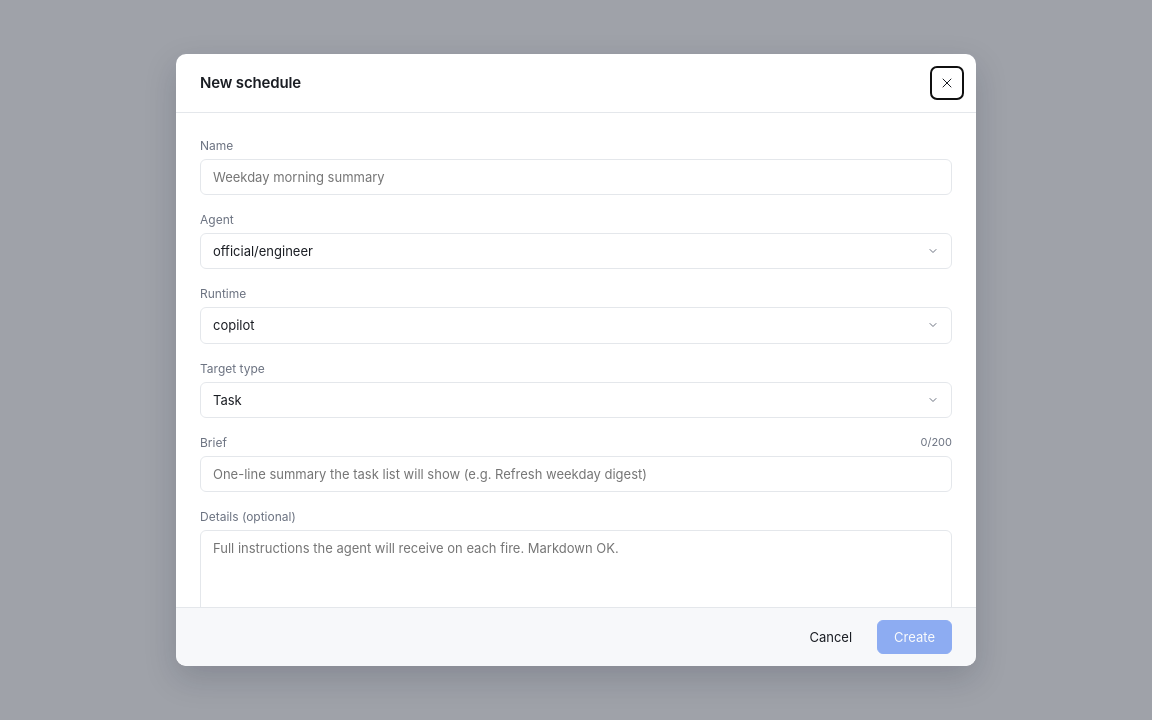
CreateScheduleModal › switching to Workflow reseeds the coordinator agent, hides Runtime, and relabels Agent
This screenshot has width=1152, height=720.
Step 1. Select "Workflow" in the dropdown with test id "create-schedule-target-kind" → (576, 400), box [200,382,952,418]
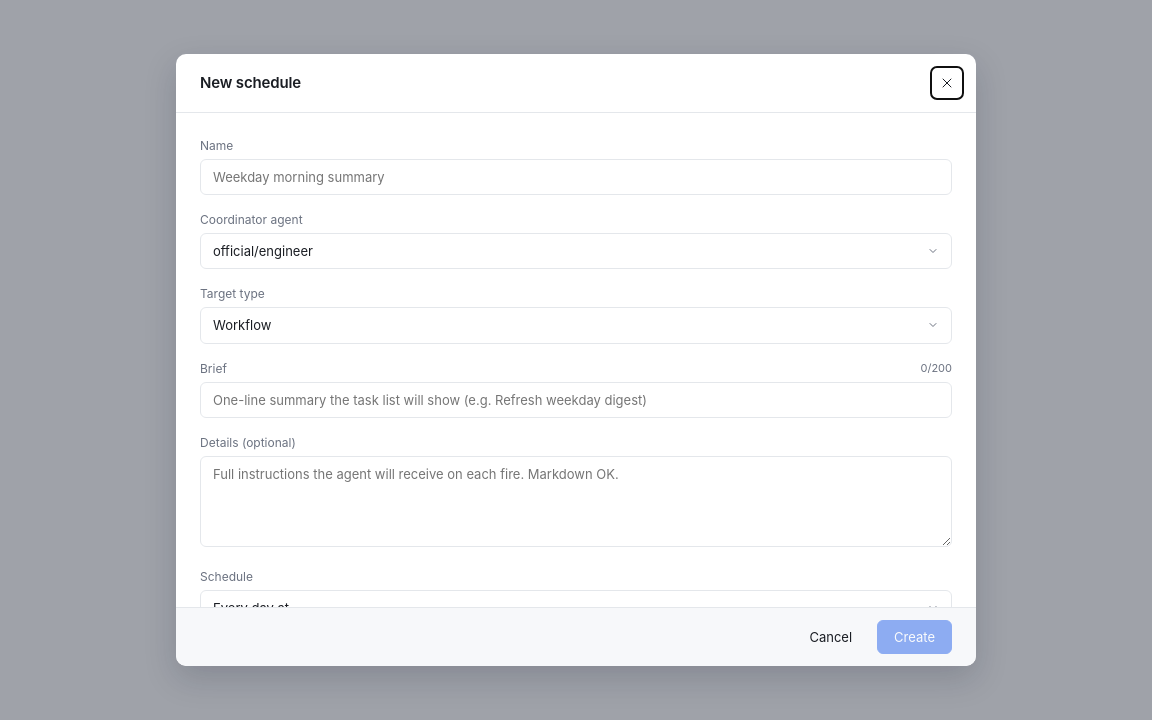
Expected: the dropdown with test id "create-schedule-agent" shows "official/engineer", [200,233,952,269]
Expected: the dropdown with test id "create-schedule-runtime" is gone
Expected: the text "Coordinator agent" is shown, [200,212,303,227]
